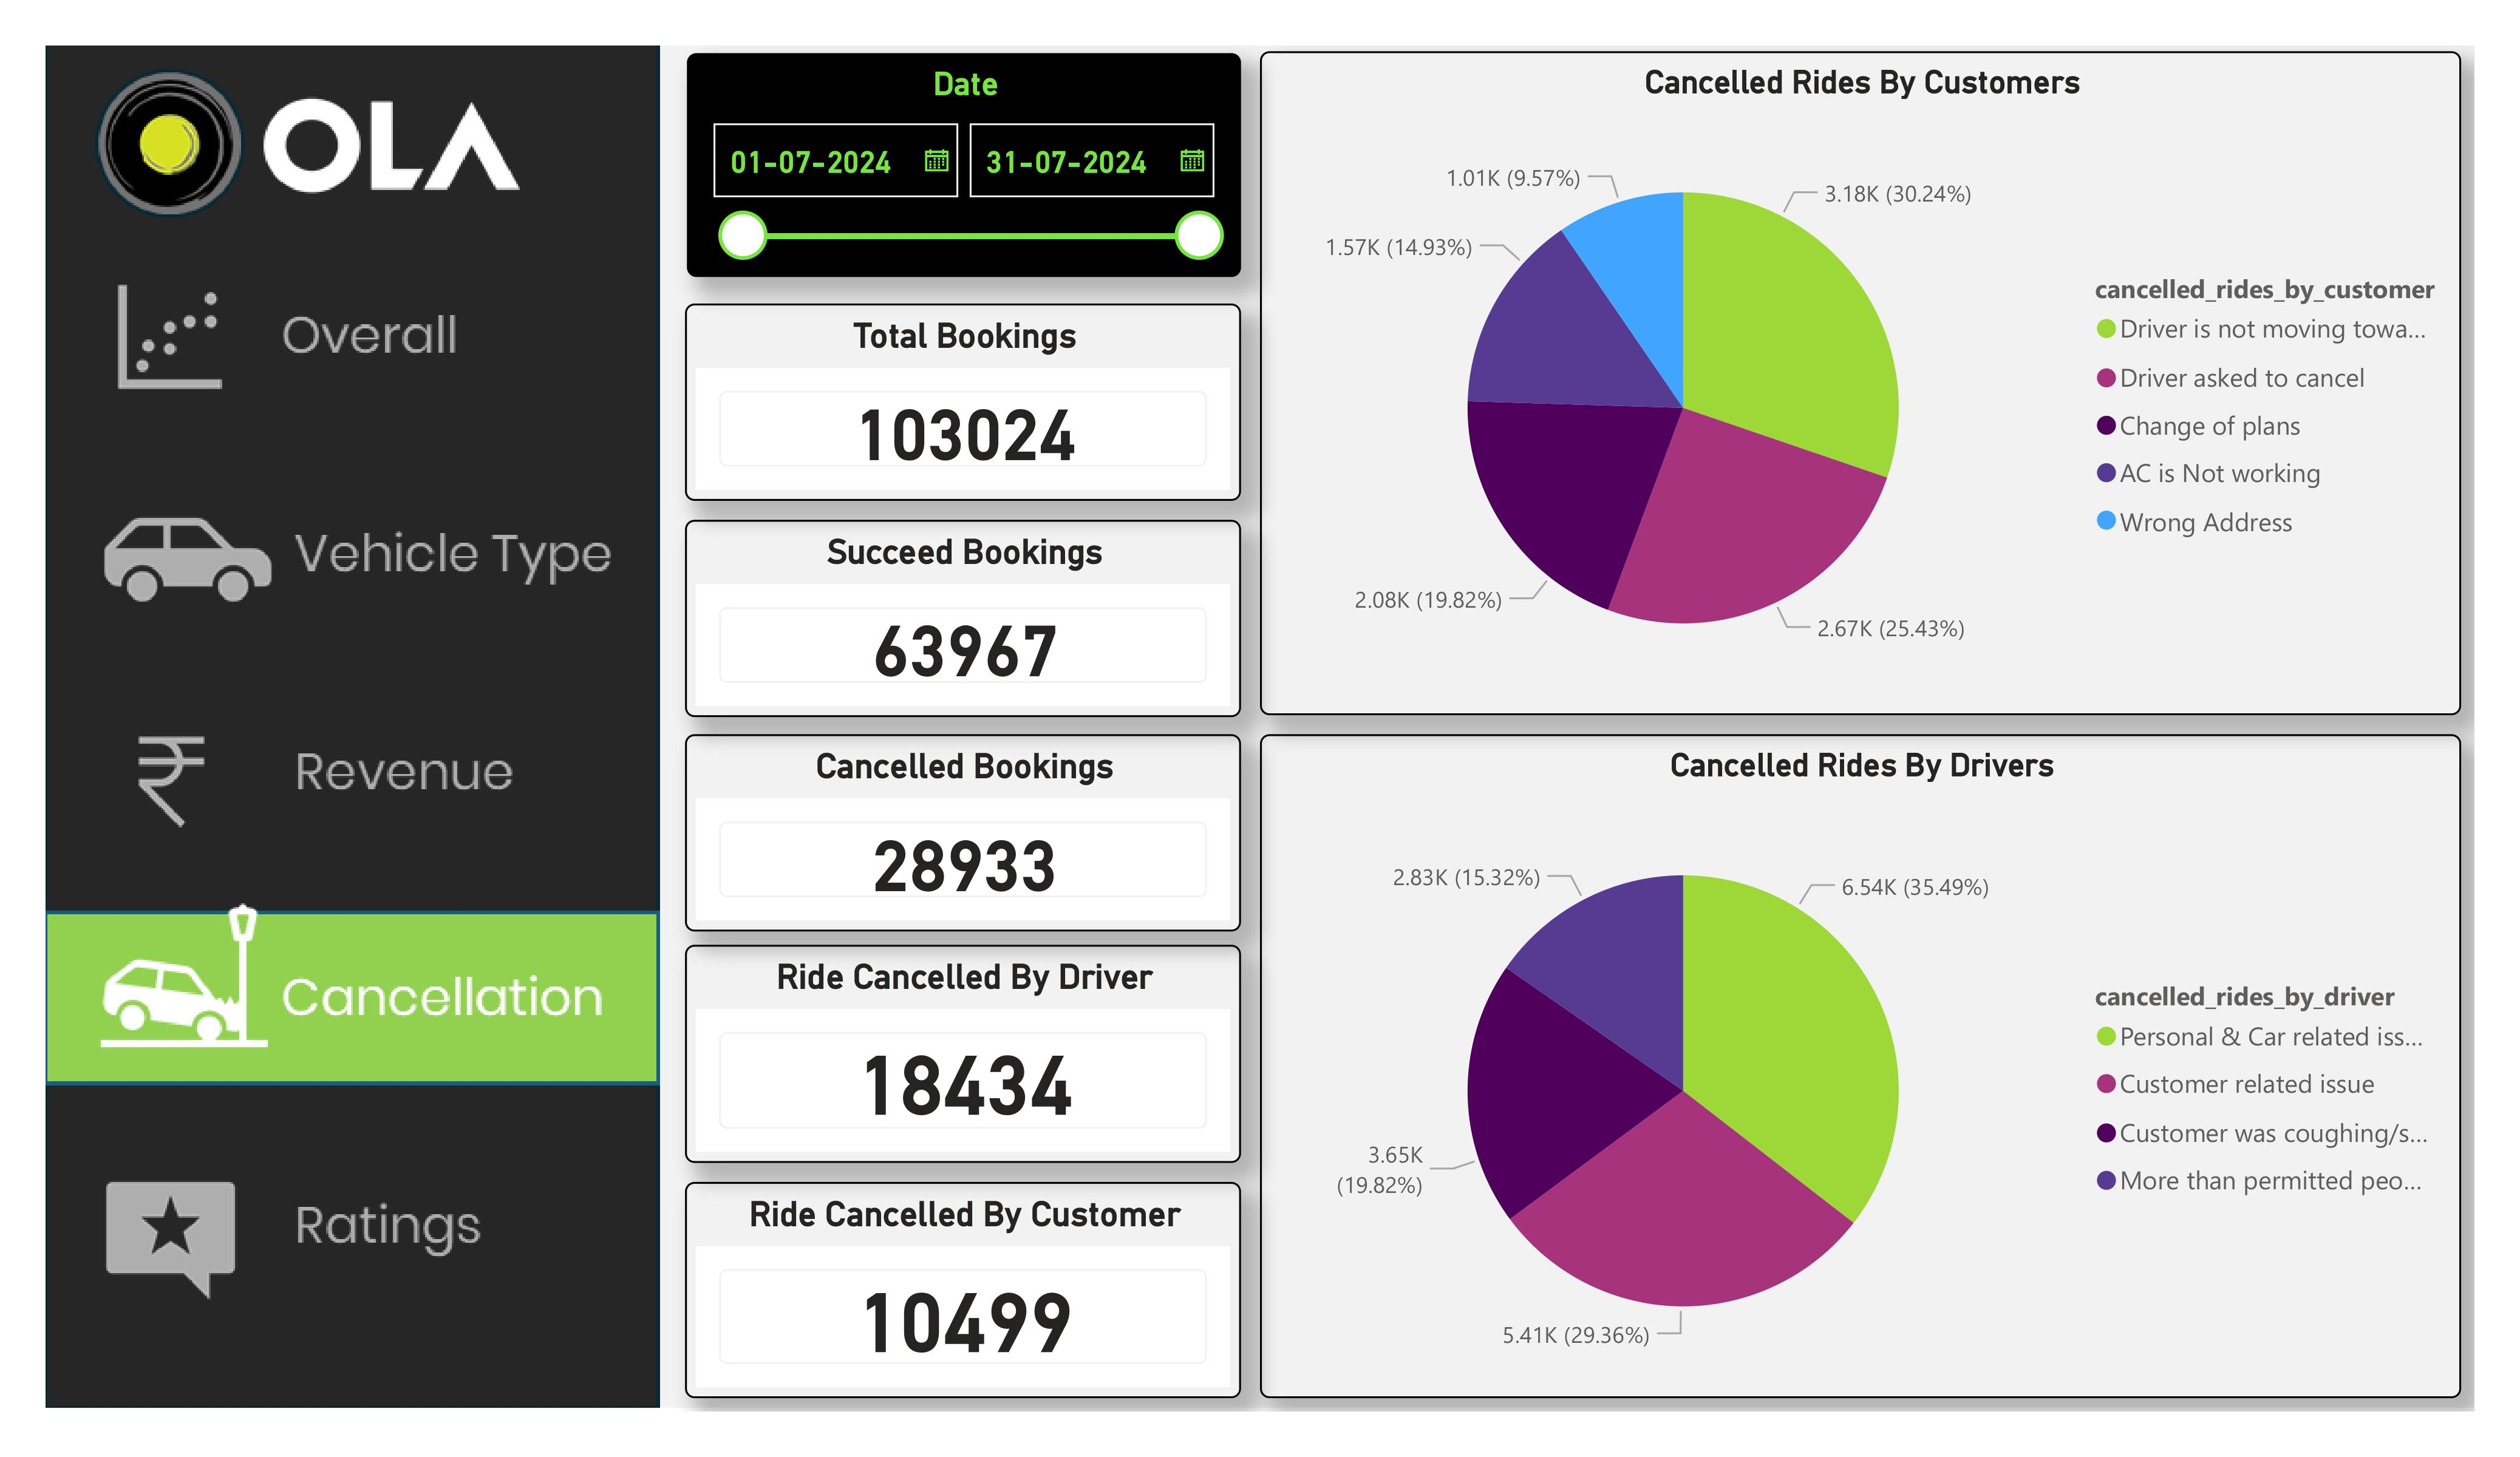

This screenshot's page, from the dashboard's own definition file:
{"tool":"powerbi","page":{"name":"Cancellation","canvas":[1280,720],"ordinal":3},"visuals":[{"type":"actionButton","box":[0,225,325.7,90],"z":0},{"type":"actionButton","box":[0,342.9,325.7,90],"z":1000},{"type":"actionButton","box":[0,581.4,325.7,90],"z":2000},{"type":"actionButton","box":[0,108.6,325.7,90],"z":3000},{"type":"pieChart","title":"Cancelled Rides By Customers","fields":{"Category":["public ola_bookings.cancelled_rides_by_customer"],"Y":["CountNonNull(public ola_bookings.cancelled_rides_by_customer)"]},"box":[640,2.9,632.9,350],"z":4000},{"type":"pieChart","title":"Cancelled Rides By Drivers","fields":{"Category":["public ola_bookings.cancelled_rides_by_driver"],"Y":["CountNonNull(public ola_bookings.cancelled_rides_by_driver)"]},"box":[640,362.9,632.9,350],"z":5000},{"type":"slicer","title":"Date","fields":{"Values":["public ola_bookings.date"]},"box":[337.8,4.4,292.2,117.8],"z":6000},{"type":"cardVisual","title":"Ride Cancelled By Driver","fields":{"Data":["CountNonNull(public ola_bookings.cancelled_rides_by_driver)"]},"box":[337.1,474.3,292.9,114.3],"z":7000},{"type":"cardVisual","title":"Ride Cancelled By Customer","fields":{"Data":["CountNonNull(public ola_bookings.booking_status)"]},"box":[337.1,598.6,292.9,114.3],"z":8000},{"type":"cardVisual","title":"Total Bookings","fields":{"Data":["CountNonNull(public ola_bookings.booking_id)"]},"box":[337.1,135.7,292.9,104.3],"z":9000},{"type":"cardVisual","title":"Succeed Bookings","fields":{"Data":["CountNonNull(public ola_bookings.booking_id)"]},"box":[337.1,250,292.9,104.3],"z":10000},{"type":"cardVisual","title":"Cancelled Bookings","fields":{"Data":["CountNonNull(public ola_bookings.booking_id)"]},"box":[337.1,362.9,292.9,104.3],"z":11000}]}

Visuals, with their boxes on the page's 1280x720 design canvas (x1, y1, x2, y2). These are canvas units, not pixel positions in the 2520x1457 screenshot, which may show the page scaled, cropped or inside an application window:
actionButton: 0/225/326/315
actionButton: 0/343/326/433
actionButton: 0/581/326/671
actionButton: 0/109/326/199
"Cancelled Rides By Customers" pieChart: 640/3/1273/353
"Cancelled Rides By Drivers" pieChart: 640/363/1273/713
"Date" slicer: 338/4/630/122
"Ride Cancelled By Driver" cardVisual: 337/474/630/589
"Ride Cancelled By Customer" cardVisual: 337/599/630/713
"Total Bookings" cardVisual: 337/136/630/240
"Succeed Bookings" cardVisual: 337/250/630/354
"Cancelled Bookings" cardVisual: 337/363/630/467
